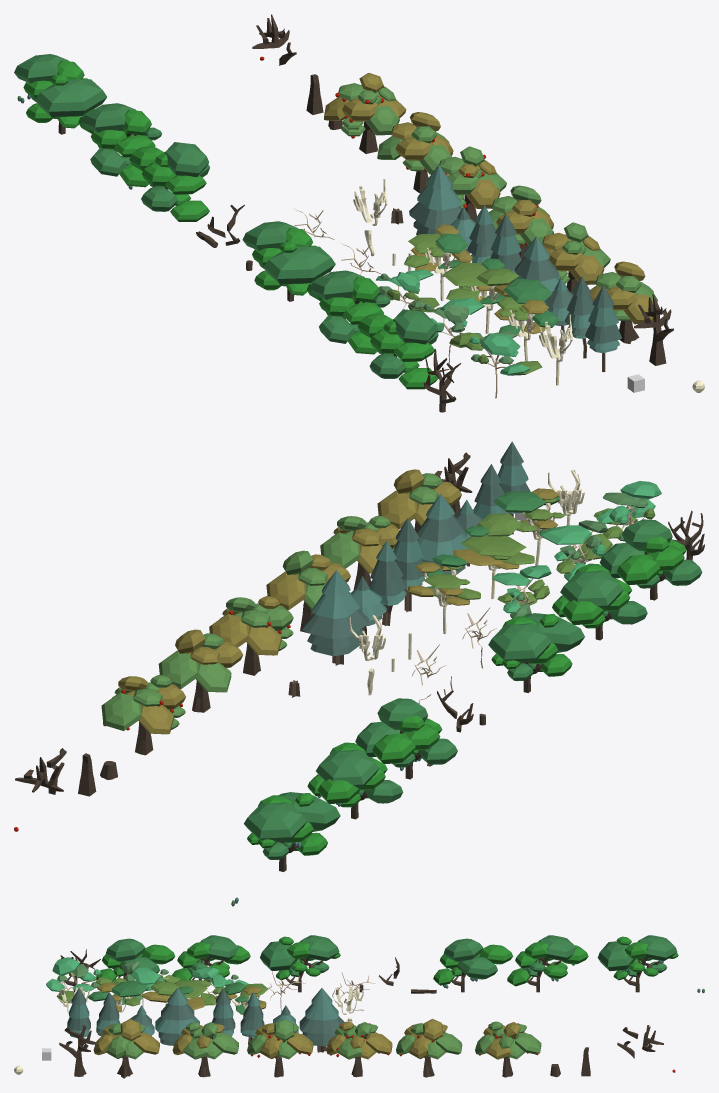
The model's file is Trees (1).glb.
3 views of the same model, one above another, from view 1: azimuth 30°, elevation 25°; view 2: azimuth 150°, elevation 25°; view 3: azimuth 270°, elevation 25° (orthographic). The views are drawn at different scales.
Visible parts, largest first — view 1: Cube.022, Cube.025, Cube.016, Cube.013, Cube.023, Cube.014, Cube.030, Cube.037, Cube.029, Cube.031, Cube.028, Cube.008 (+16 smaller); view 2: Cube.025, Cube.016, Cube.022, Cube.013, Cube.030, Cube.023, Cube.014, Cube.037, Cube.031, Tree.019, Cube.029, Cube.038 (+16 smaller); view 3: Cube.025, Cube.016, Cube.023, Cube.022, Cube.014, Cube.028, Cube.038, Cube.031, Cube.037, Cube.030, Cube.029, Cube.013 (+16 smaller).
Part boxes in pixels (x1,y1,x2,y2): Cube.022: (129,142,209,221); Cube.025: (14,54,106,134); Cube.016: (242,221,335,301); Cube.013: (357,309,438,389); Cube.023: (78,103,162,189); Cube.014: (307,270,390,354); Cube.030: (324,73,406,153); Cube.037: (377,112,453,193); Cube.029: (542,222,610,294); Cube.031: (425,146,506,222); Cube.028: (590,261,657,343); Cube.008: (494,278,558,361); Cube.025: (244,792,340,871); Cube.016: (488,613,584,692); Cube.022: (355,698,457,779); Cube.013: (599,519,702,600); Cube.030: (101,675,185,755); Cube.023: (307,742,403,819); Cube.014: (552,563,647,640); Cube.037: (158,629,242,712); Cube.031: (209,596,293,675); Tree.019: (302,570,368,665); Cube.029: (320,515,399,590); Cube.038: (266,550,350,632); Cube.025: (597,935,678,992); Cube.016: (260,935,340,992); Cube.023: (507,935,588,992); Cube.022: (433,938,513,992); Cube.014: (171,935,250,983); Cube.028: (93,1018,159,1078); Cube.038: (247,1019,313,1077); Cube.031: (326,1021,392,1077); Cube.037: (396,1019,462,1077); Cube.030: (475,1021,541,1077); Cube.029: (172,1022,238,1077); Cube.013: (96,938,175,981).
Bounding box in the file's own units: 52.54 × 16.06 × 149.
